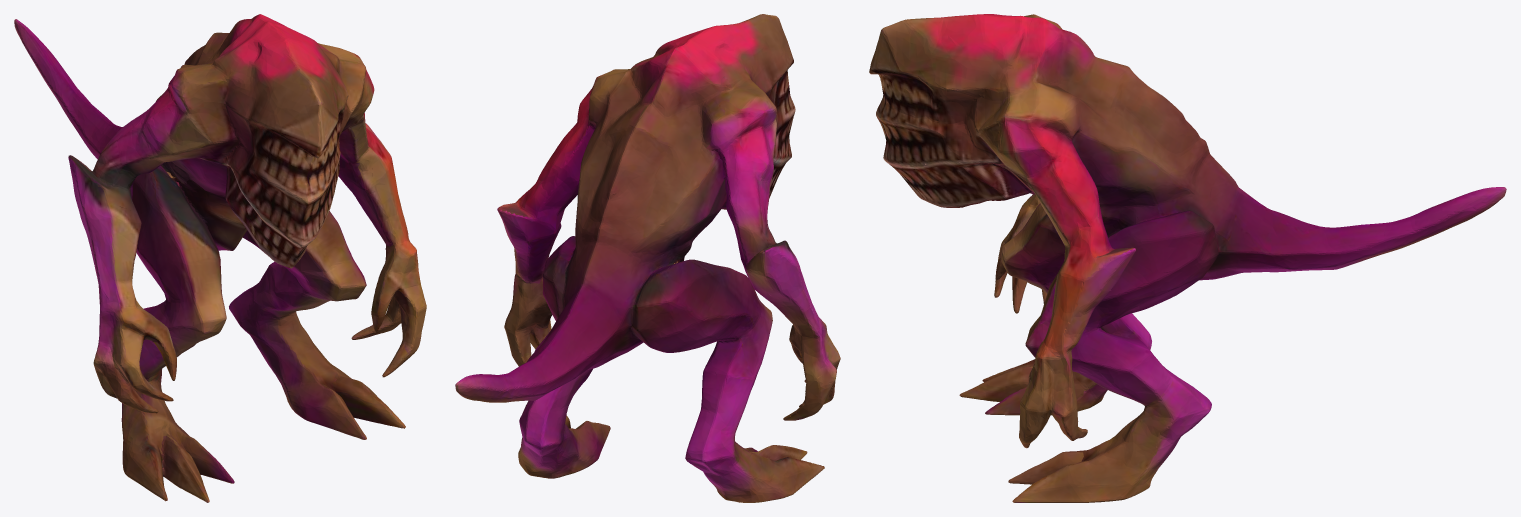
The model's file is DREADMAW.glb.
3 renders of one model, left to right at view 1: azimuth 30°, elevation 25°; view 2: azimuth 150°, elevation 25°; view 3: azimuth 270°, elevation 25°, orthographic. The views are drawn at different scales.
Parts seen in each view (by area): view 1: DREADMAW_512; view 2: DREADMAW_512; view 3: DREADMAW_512.
Boxes of the visible parts, x1=… form: DREADMAW_512: x1=14, y1=14, x2=426, y2=502; DREADMAW_512: x1=455, y1=14, x2=840, y2=502; DREADMAW_512: x1=869, y1=14, x2=1506, y2=502.
Size of the model in its own units: 1.18 by 1.47 by 1.99.
1 material, 1 textured.
